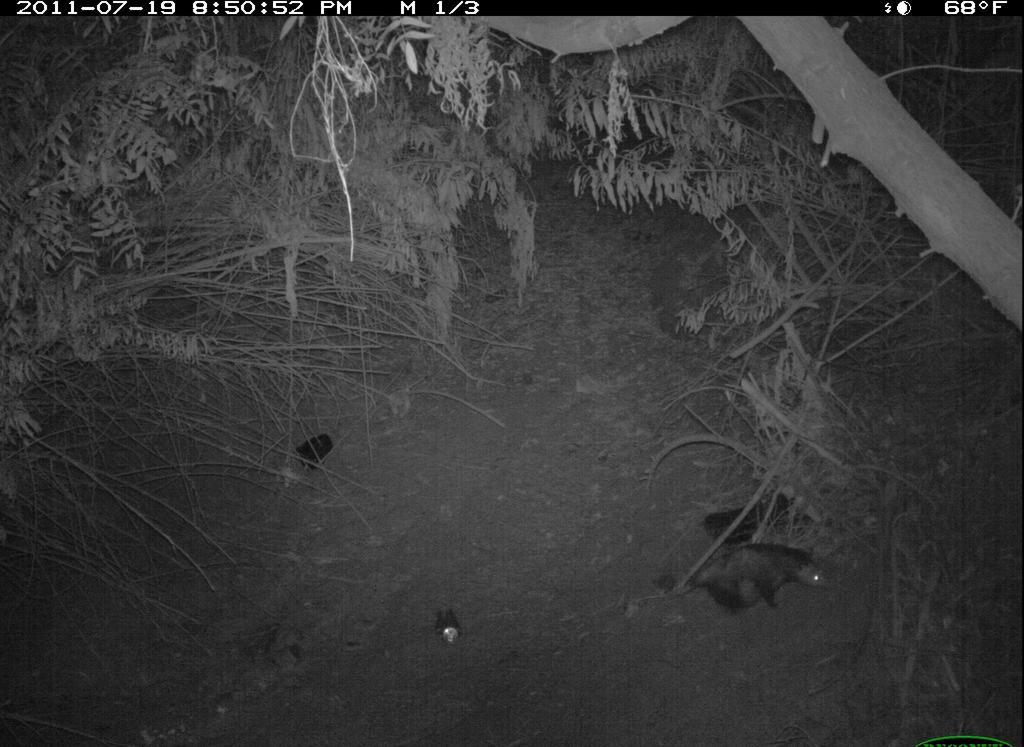opossum: (653, 534, 859, 621)
